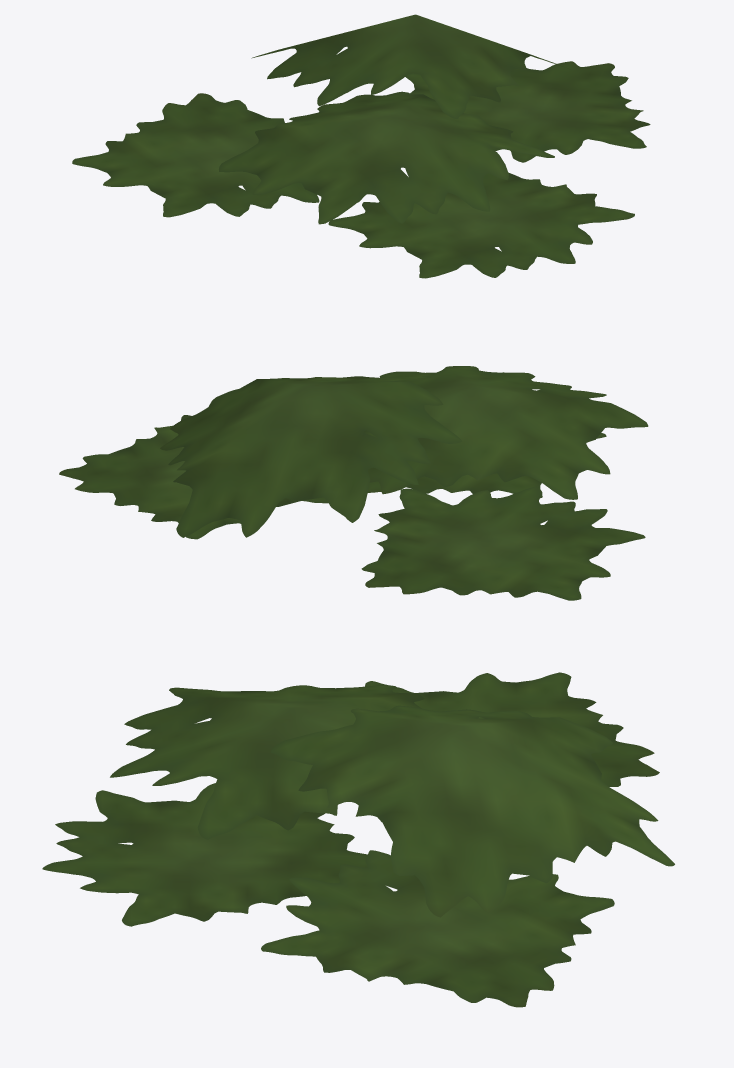
Rendered from Bush_03.fbx.
3 views of the same model, one above another, from view 1: azimuth 30°, elevation 25°; view 2: azimuth 150°, elevation 25°; view 3: azimuth 270°, elevation 25° (orthographic). The views are drawn at different scales.
Parts seen in each view (by area): view 1: Bush_03; view 2: Bush_03; view 3: Bush_03.
Boxes of the visible parts, bbox=[...] form: Bush_03: bbox=[72, 14, 650, 278]; Bush_03: bbox=[59, 366, 648, 600]; Bush_03: bbox=[42, 672, 674, 1007].
Bounding box in the file's own units: 262 × 49.54 × 212.
Materials: 1 (1 with a texture image).
